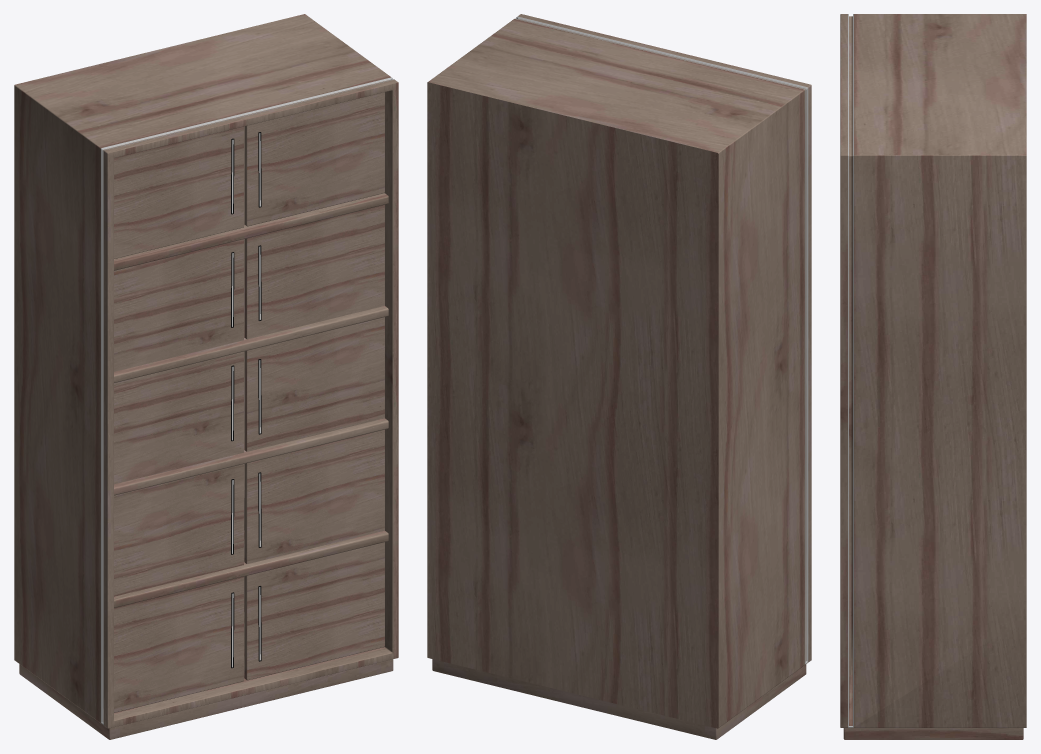
The model's file is wardrobe_2.glb.
3 views of the same model, side by side, from view 1: azimuth 30°, elevation 25°; view 2: azimuth 150°, elevation 25°; view 3: azimuth 270°, elevation 25° (orthographic).
Parts seen in each view (by area): view 1: ClosetDoor, Closet Nordic W&N; view 2: Closet Nordic W&N; view 3: Closet Nordic W&N.
Boxes of the visible parts, bbox=[...] form: ClosetDoor: bbox=[114, 92, 384, 712]; Closet Nordic W&N: bbox=[14, 14, 398, 739]; Closet Nordic W&N: bbox=[427, 14, 811, 739]; Closet Nordic W&N: bbox=[840, 14, 1026, 739].
Size of the model in its own units: 0.9 by 1.74 by 0.5.
6 materials, 3 textured.
